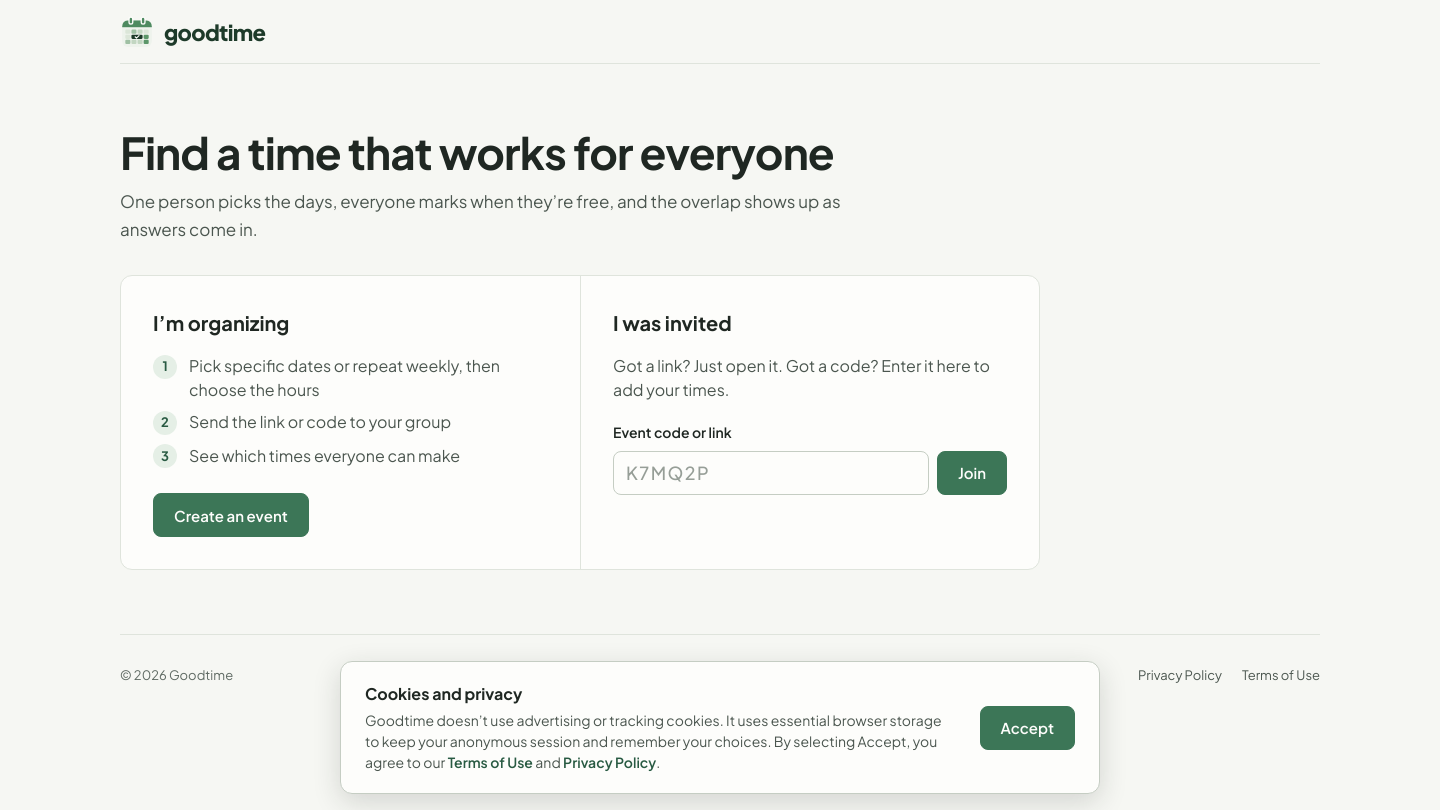
Test: choosing a role › offers creating or joining an event
Expected: the heading "I’m organizing" is shown, [153,310,289,335]
Expected: the heading "I was invited" is shown, [613,310,732,335]
What coordinates should you click on to do the following:
click the link "Create an event"
I would click on:
 (231, 515)
Its box is [153,493,309,537].
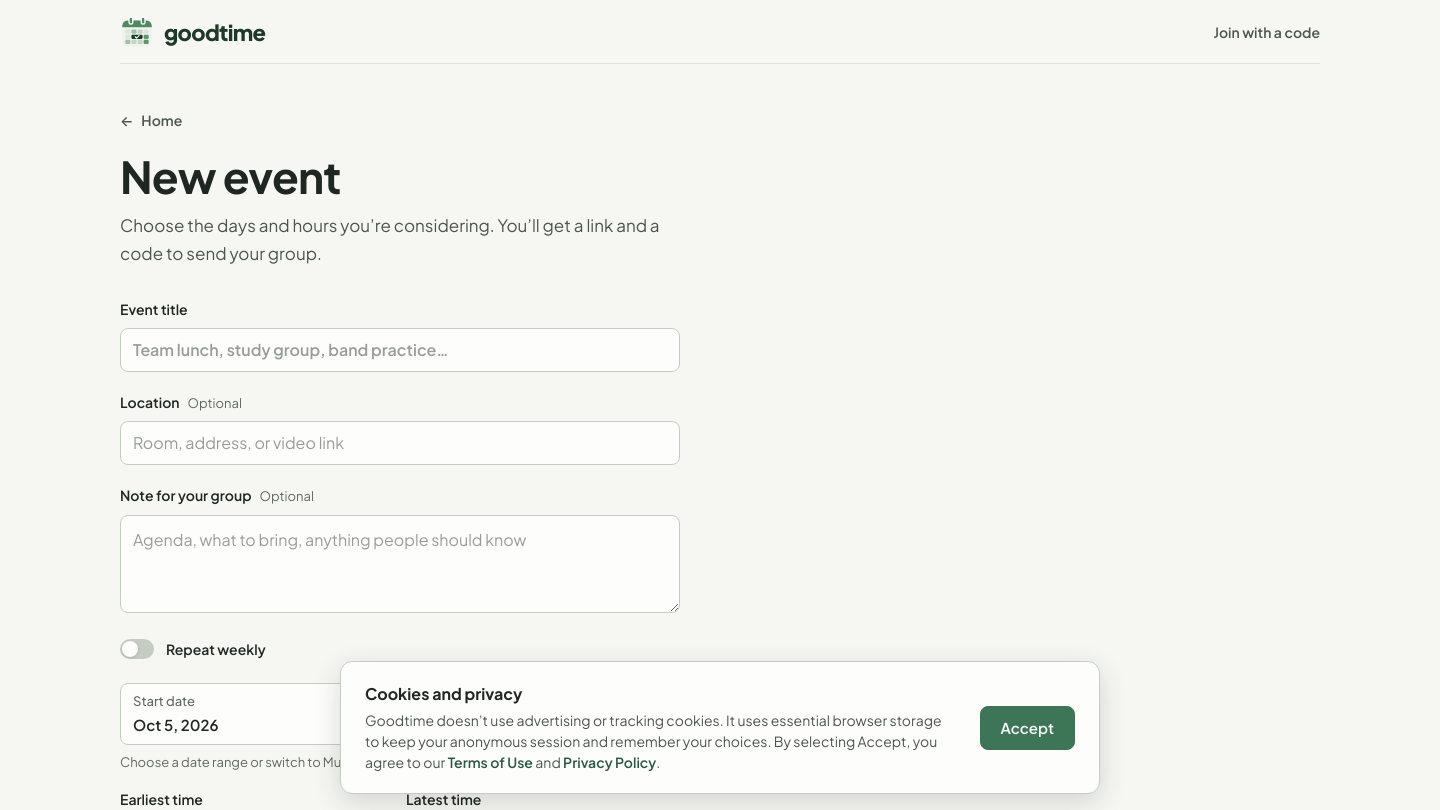
Now the heading "New event" is shown, box [120,148,340,204]
